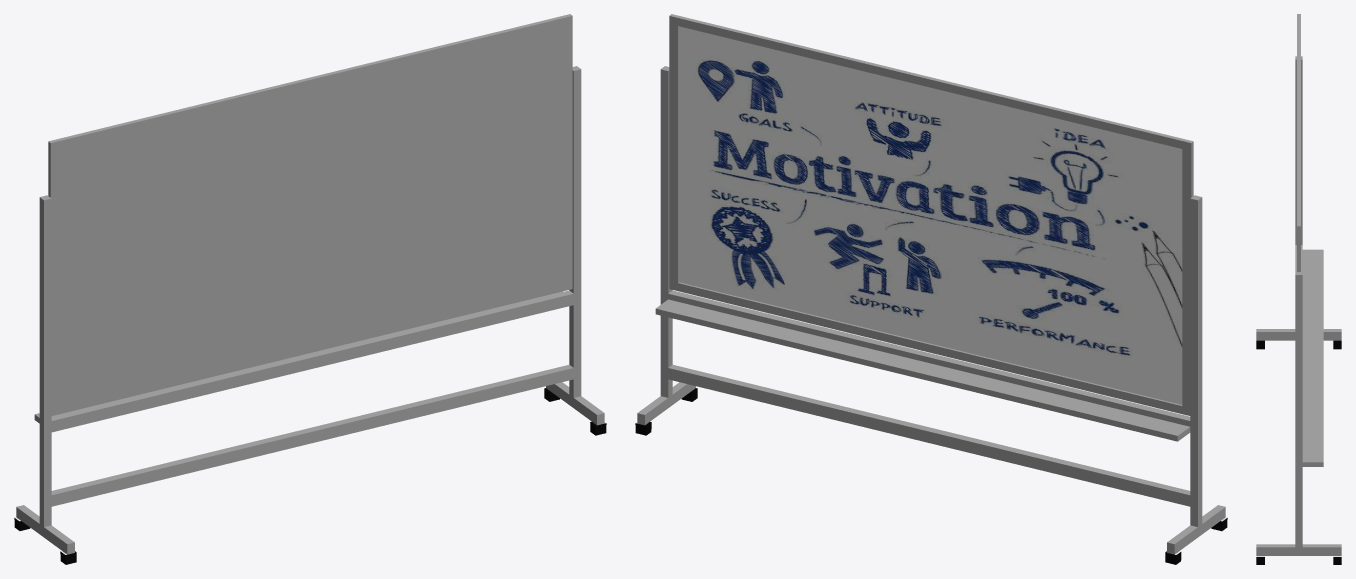
The model's file is Whiteboard.fbx.
The picture shows the model from 3 angles, left to right: view 1: azimuth 30°, elevation 25°; view 2: azimuth 150°, elevation 25°; view 3: azimuth 270°, elevation 25°; orthographic projection. The views are drawn at different scales.
Visible parts, largest first — view 1: Whiteboard; view 2: Whiteboard; view 3: Whiteboard.
Boxes of the visible parts, x1,y1,x2,y2 form: Whiteboard: (14,14,606,564); Whiteboard: (635,14,1227,564); Whiteboard: (1256,14,1341,564).
Size of the model in its own units: 1.24 by 0.2037 by 0.8823.
